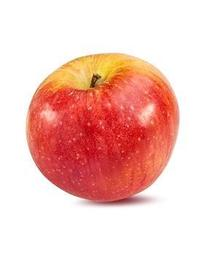apple: (23, 52, 179, 202)
